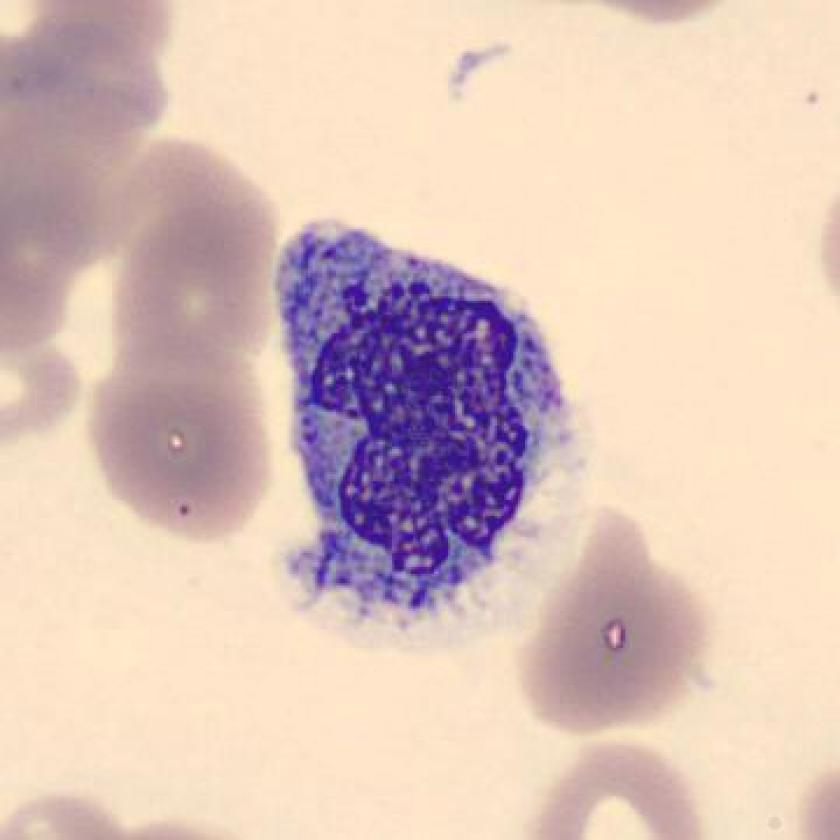monocyte: (253, 203, 615, 675)
